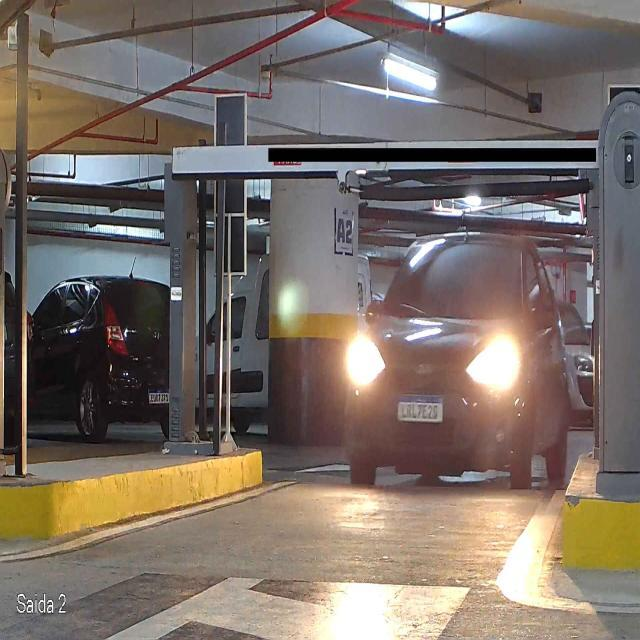mercosul_plate: (393, 392, 445, 424)
